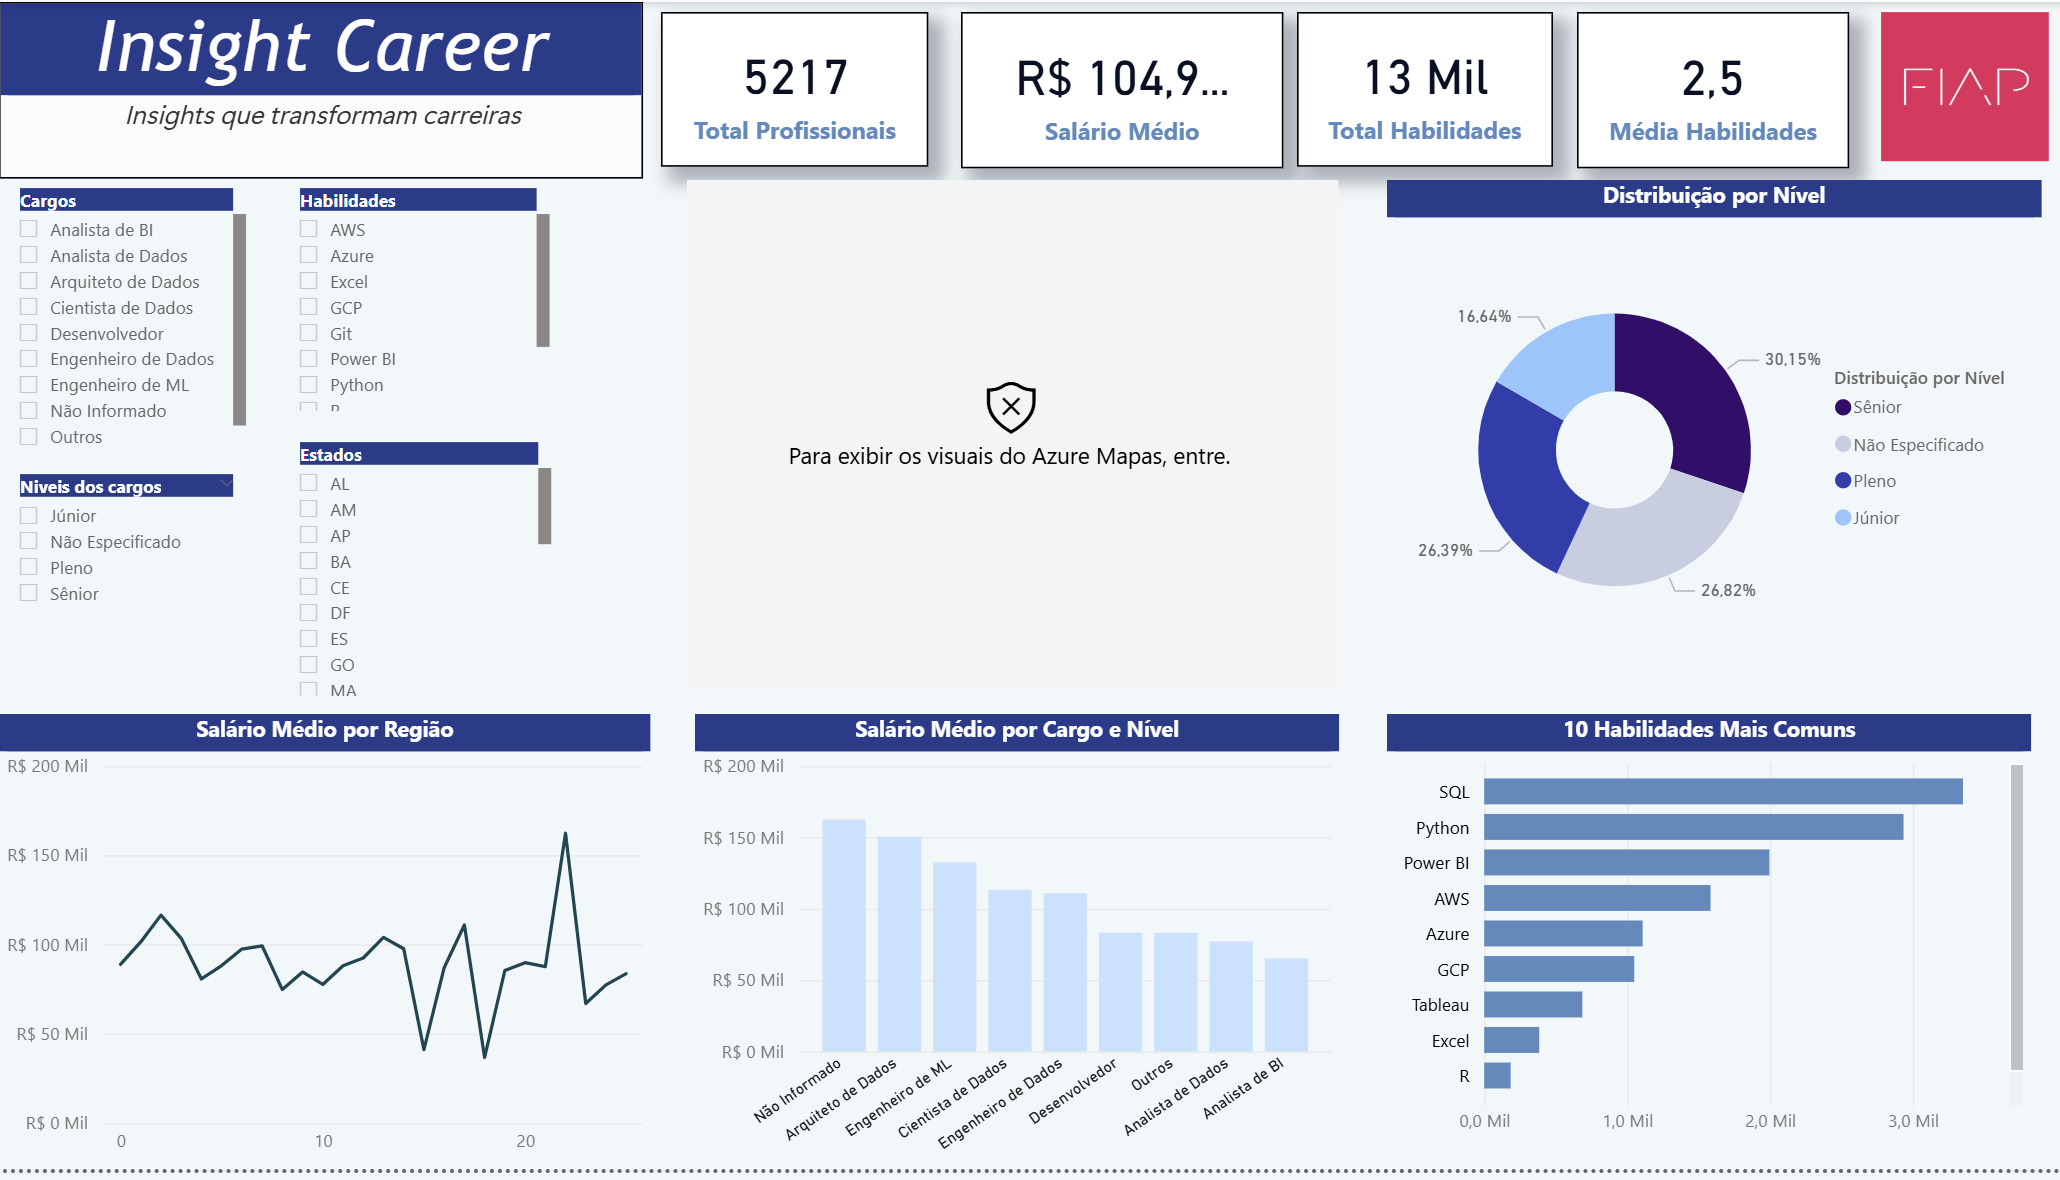

The page's visual inventory and layout, read from the dashboard file:
{"tool":"powerbi","page":{"name":"Página 1","canvas":[1280,720],"ordinal":0},"visuals":[{"type":"card","fields":{"Values":["Medidas.Total Profissionais"]},"box":[408.4,6.1,165.1,95.4],"z":0},{"type":"card","fields":{"Values":["Medidas.Salário Médio"]},"box":[593.3,5.6,198.9,96.7],"z":1000},{"type":"card","fields":{"Values":["Medidas.Total Habilidades"]},"box":[801.1,5.6,157.8,95.6],"z":2000},{"type":"card","fields":{"Values":["Medidas.Média Habilidades"]},"box":[973.3,5.6,167.8,96.7],"z":3000},{"type":"donutChart","title":"Distribuição por Nível","fields":{"Category":["dim_cargo_powerbi.NIVEL_CARGO"],"Y":["Medidas.Total Profissionais"]},"box":[856.1,109.3,403.9,315.2],"z":4000},{"type":"clusteredColumnChart","title":"Salário Médio por Cargo e Nível","fields":{"Category":["dim_cargo_powerbi.NOME_CARGO"],"Y":["Medidas.Salário Médio"]},"box":[429,439.7,397.6,280.3],"z":5000},{"type":"lineChart","title":"Salário Médio por Região","fields":{"Category":["dim_localizacao_powerbi.ID_LOCALIZACAO"],"Y":["Medidas.Salário Médio"]},"box":[0,439.7,402.1,280.3],"z":6000},{"type":"barChart","title":"10 Habilidades Mais Comuns","fields":{"Category":["dim_habilidade_powerbi.NOME_HABILIDADE"],"Y":["CountNonNull(fato_profissional_habilidade_powerbi.ID_PROFISSIONAL)"]},"box":[856.1,439.7,397.6,279.4],"z":7000},{"type":"actionButton","box":[0,0,100,40],"z":8000},{"type":"slicer","fields":{"Values":["dim_cargo_powerbi.NOME_CARGO"]},"box":[0,109.3,157.6,168.4],"z":9000},{"type":"slicer","fields":{"Values":["dim_cargo_powerbi.NIVEL_CARGO"]},"box":[0,286.6,157.6,146.9],"z":10000},{"type":"slicer","fields":{"Values":["dim_localizacao_powerbi.ESTADO"]},"box":[172.8,266.9,172.8,166.6],"z":11000},{"type":"slicer","fields":{"Values":["dim_habilidade_powerbi.NOME_HABILIDADE"]},"box":[172.8,109.3,171.9,146.9],"z":12000},{"type":"azureMap","title":"Distribuição de Profissionais por Estado","fields":{"Category":["dim_localizacao_powerbi.ESTADO"]},"box":[424.5,109.3,402.1,315.2],"z":13000},{"type":"image","box":[1157,1.8,113.7,102.1],"z":14000},{"type":"textbox","title":"Insight Career","box":[0,0,397.4,108.8],"z":15000}]}

Visuals, with their boxes in screenshot pixels (x1, y1, x2, y2), scaled from the page's 1280x720 canvas onto the 2060x1180 screenshot:
card - Medidas.Total Profissionais: 657/10/923/166
card - Medidas.Salário Médio: 955/9/1275/168
card - Medidas.Total Habilidades: 1289/9/1543/166
card - Medidas.Média Habilidades: 1566/9/1836/168
"Distribuição por Nível" donutChart: 1378/179/2028/696
"Salário Médio por Cargo e Nível" clusteredColumnChart: 690/721/1330/1179
"Salário Médio por Região" lineChart: 0/721/647/1179
"10 Habilidades Mais Comuns" barChart: 1378/721/2018/1179
actionButton: 0/0/161/66
slicer - dim_cargo_powerbi.NOME_CARGO: 0/179/254/455
slicer - dim_cargo_powerbi.NIVEL_CARGO: 0/470/254/710
slicer - dim_localizacao_powerbi.ESTADO: 278/437/556/710
slicer - dim_habilidade_powerbi.NOME_HABILIDADE: 278/179/555/420
"Distribuição de Profissionais por Estado" azureMap: 683/179/1330/696
image: 1862/3/2045/170
"Insight Career" textbox: 0/0/640/178
